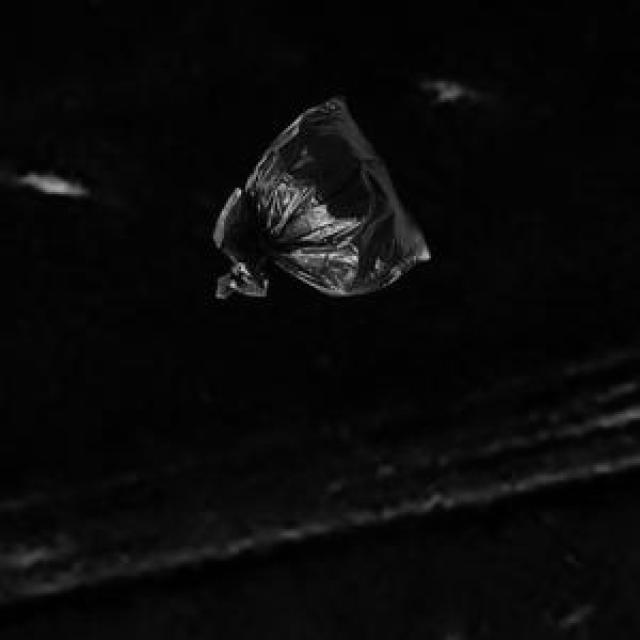miscellaneous trash: (209, 92, 425, 292)
